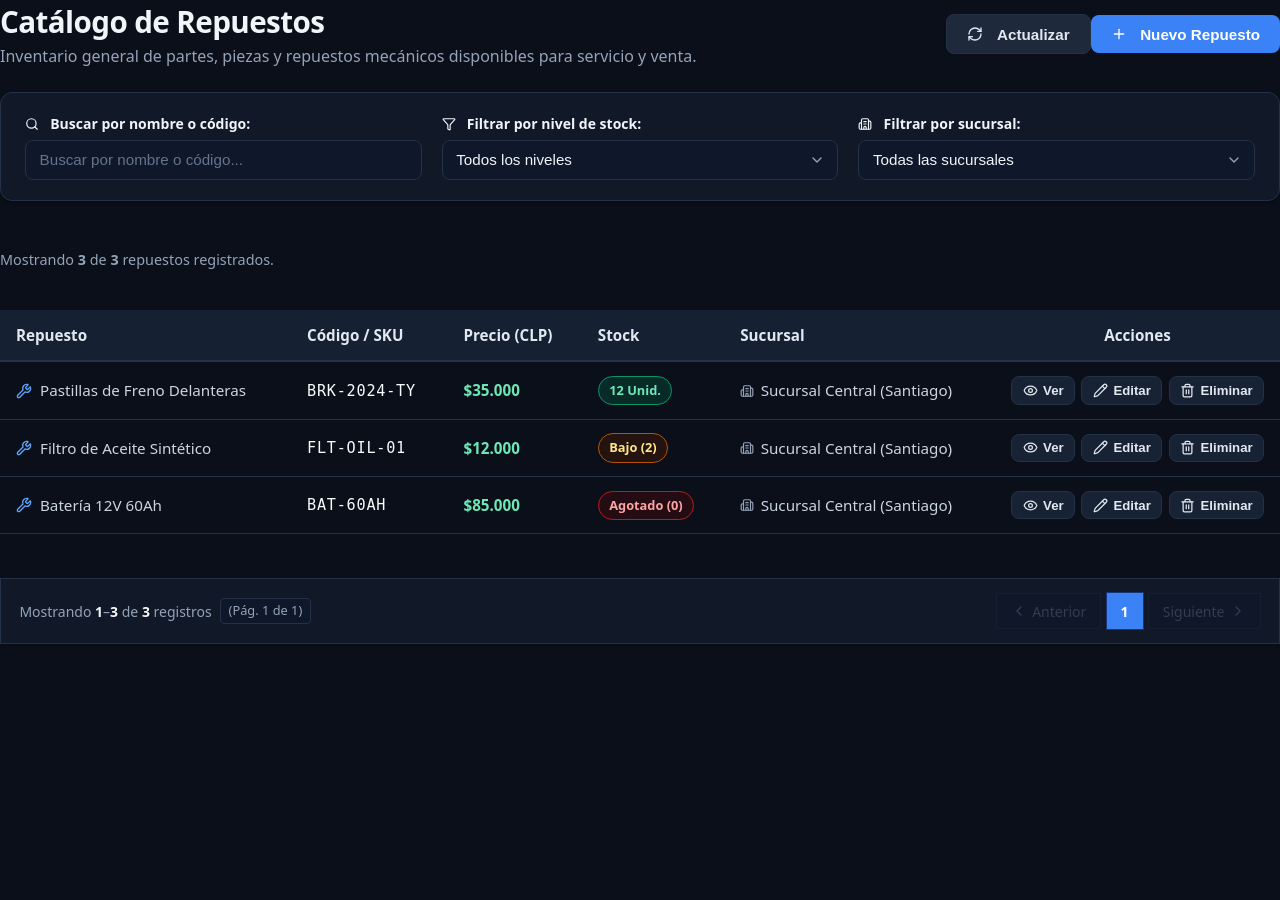
Test: Módulo CRUD de Repuestos (RepuestosPage.tsx) › valida que los campos obligatorios y números sean válidos
Expected: the text "Pastillas de Freno Delanteras" is shown, [40,379,246,402]
Click the button with aria-label "registrar nuevo repuesto": {"x": 1185, "y": 34} [1091,15,1279,53]
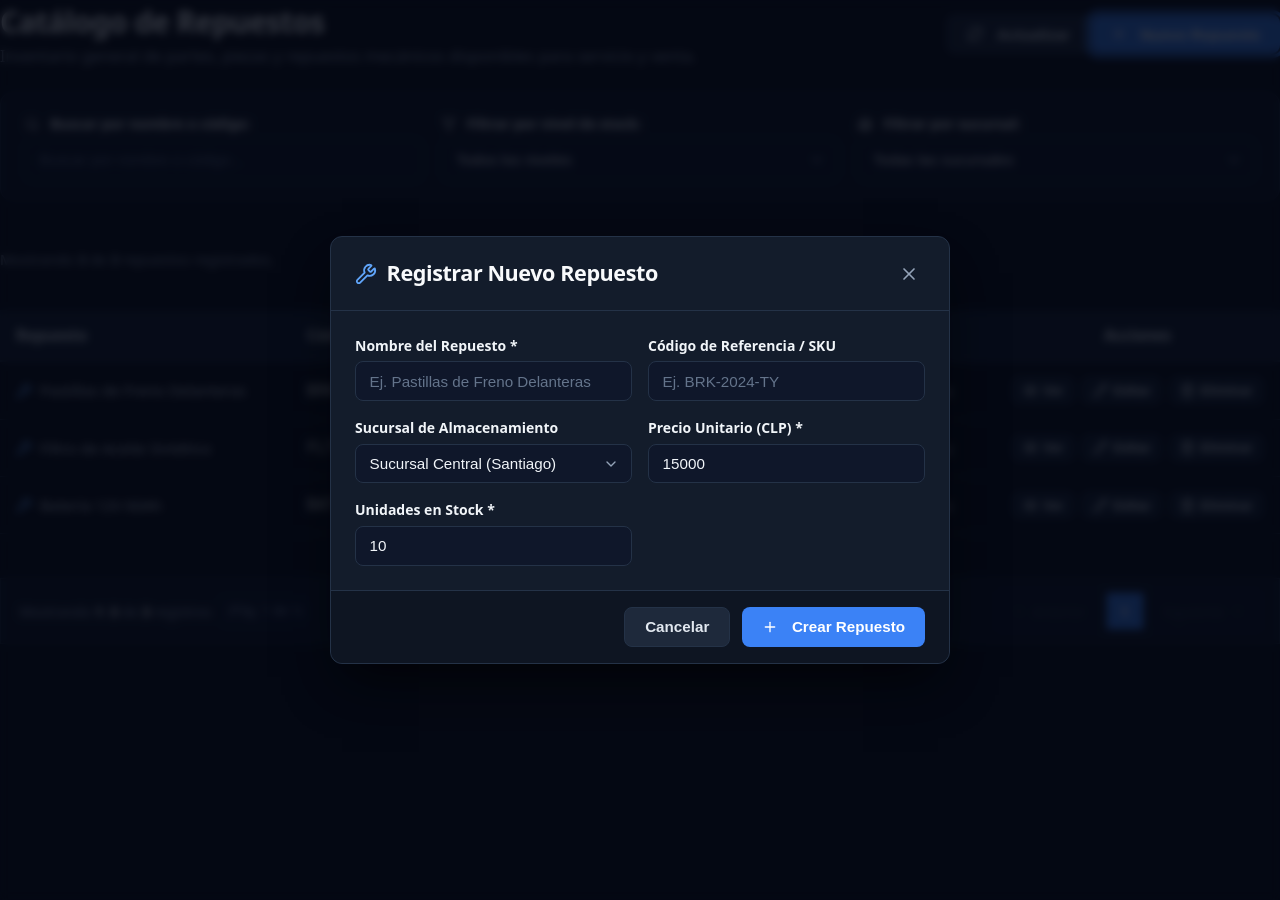
Replace the text in the number field labelled "Precio Unitario (CLP) *" with "0": {"x": 786, "y": 464} [648,444,925,484]
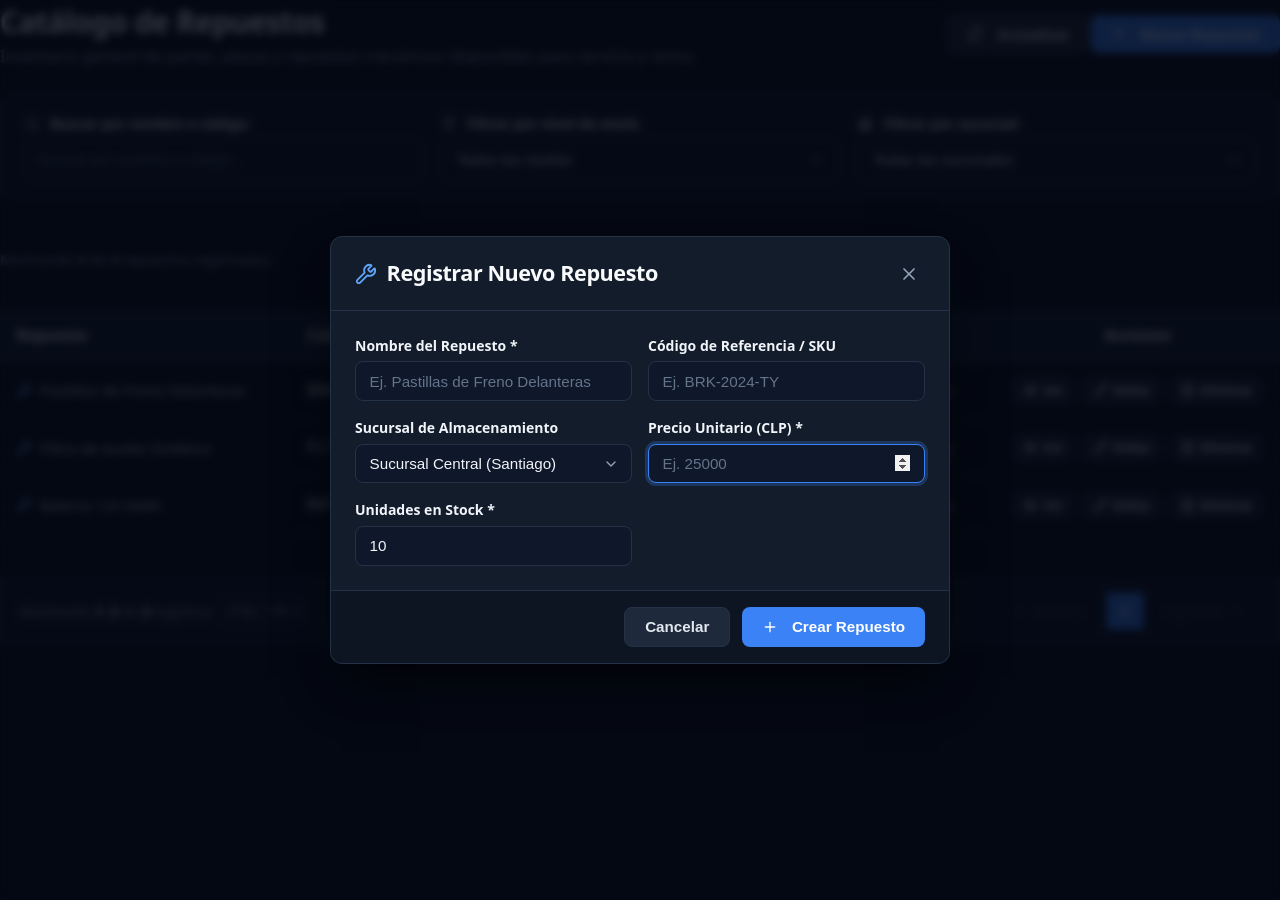
Click the button "Crear Repuesto": {"x": 834, "y": 627} [742,607,925,647]
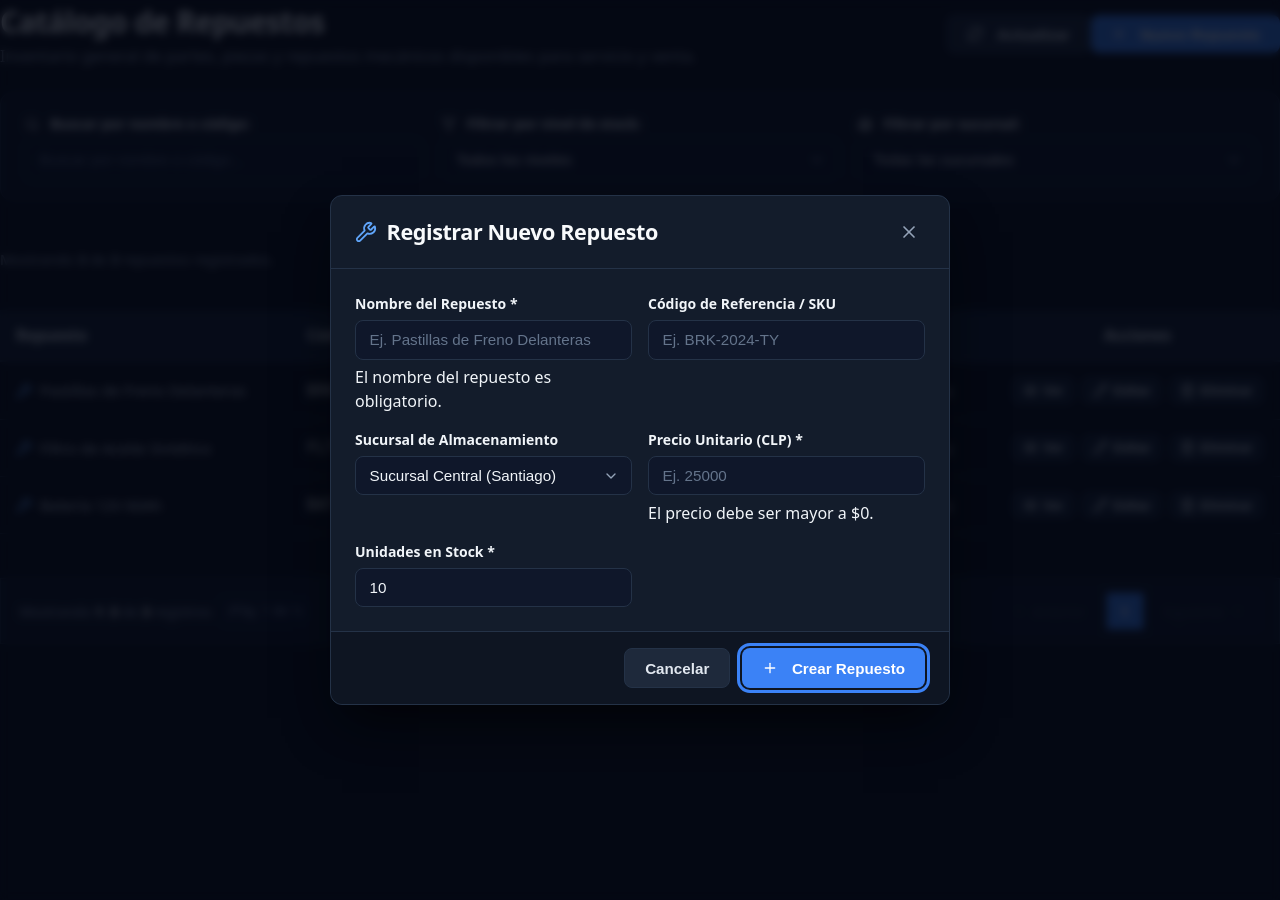
Expected: the text "El nombre del repuesto es obligatorio." is shown, [355,366,551,412]
Expected: the text "El precio debe ser mayor a $0." is shown, [648,502,874,524]
